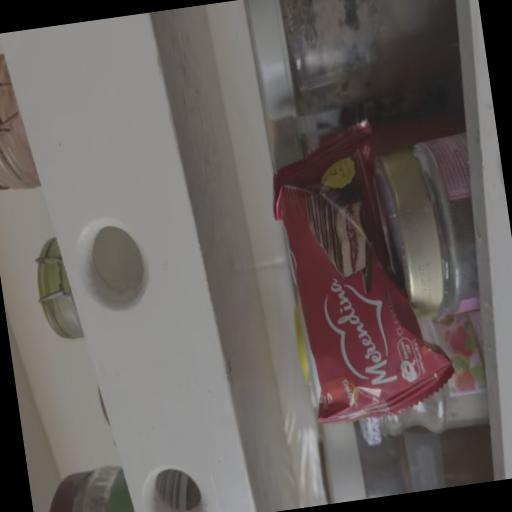merendina: (251, 108, 486, 446)
